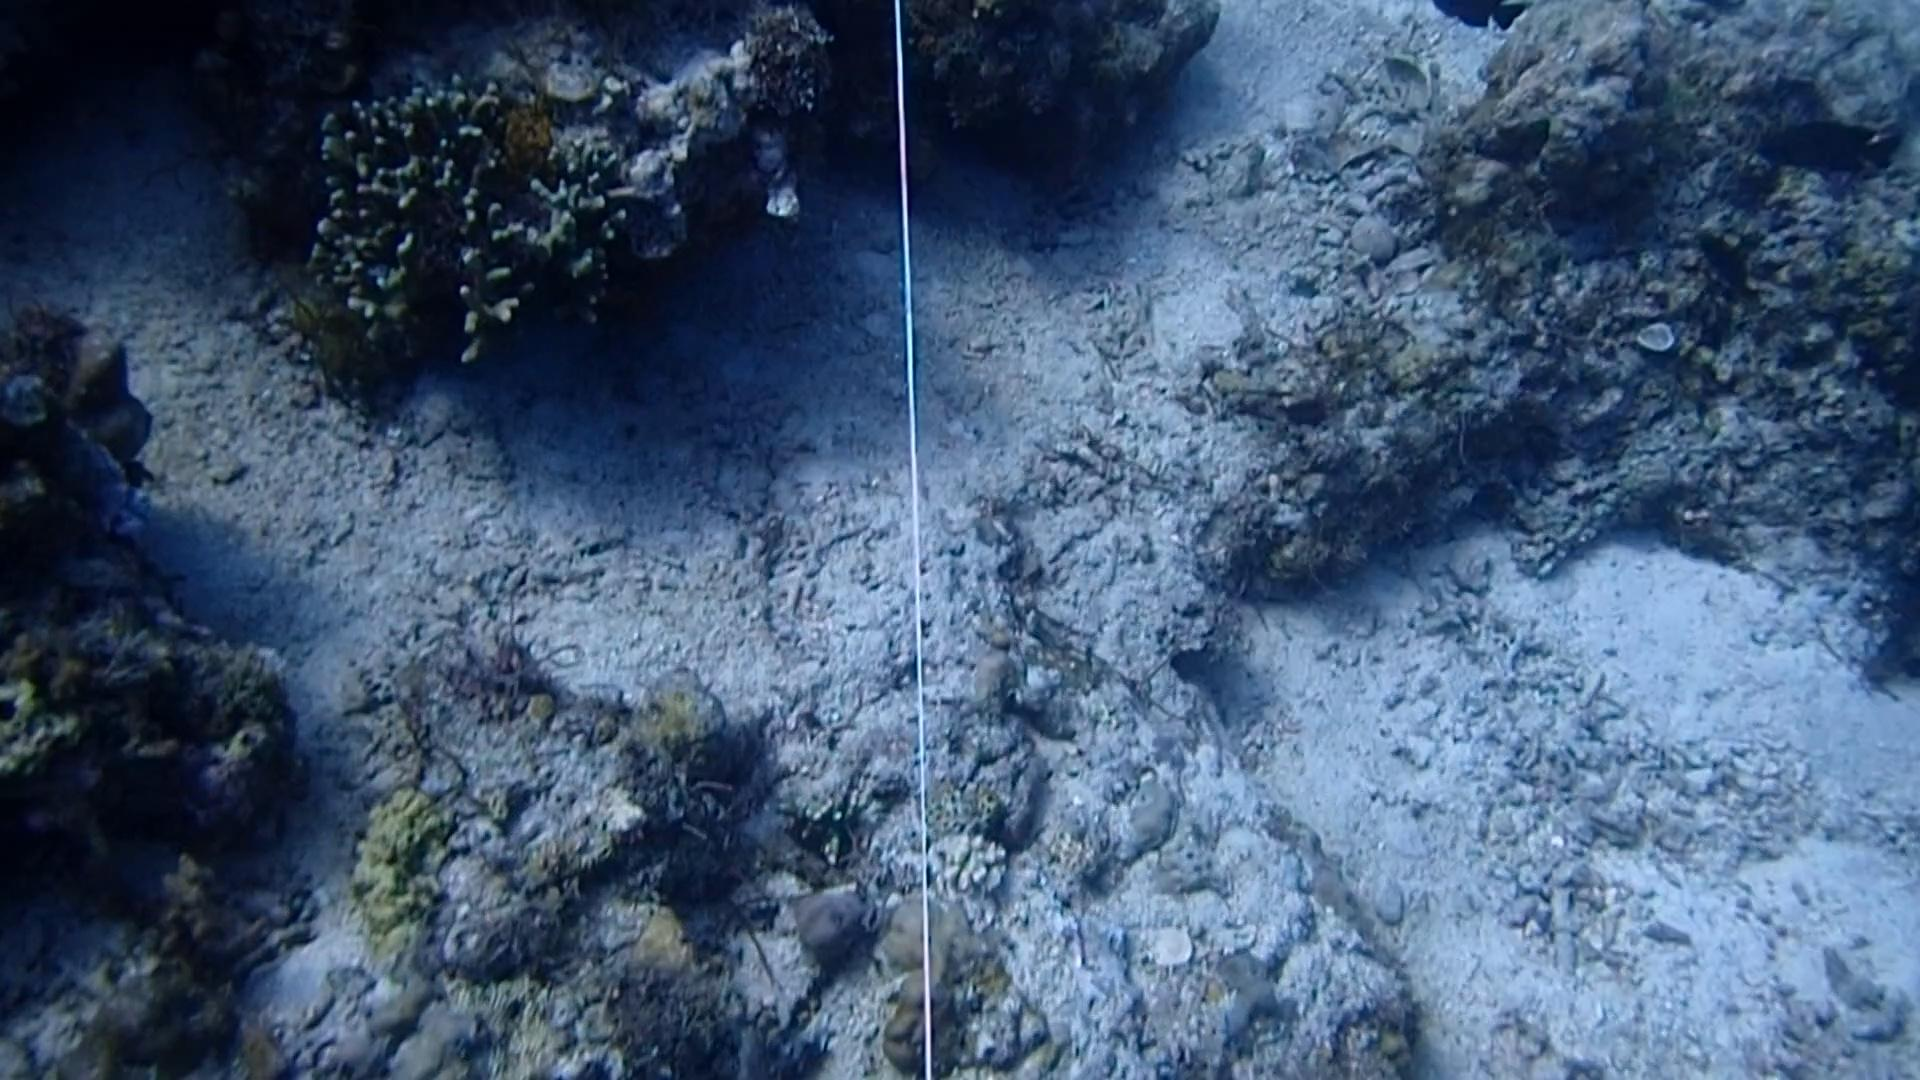Dark Fish: (1749, 99, 1902, 185), (1681, 212, 1763, 306)
